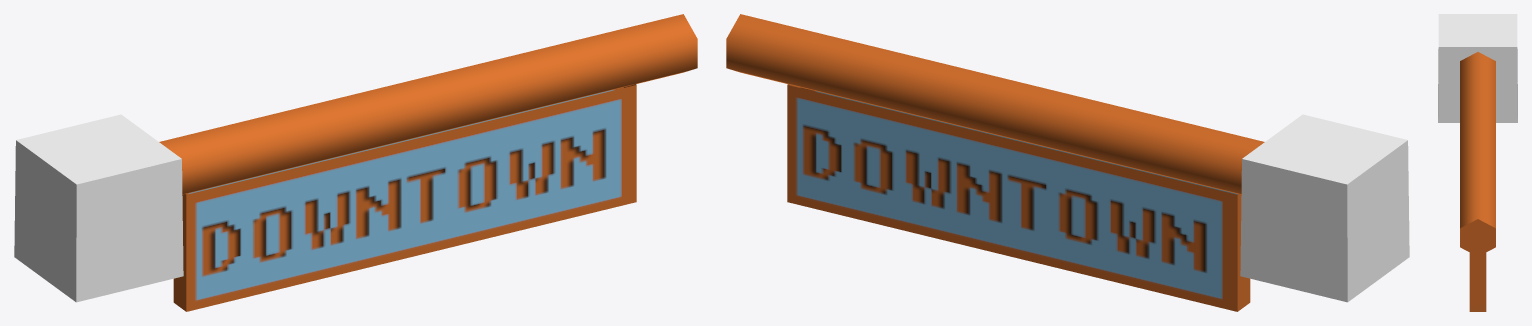
The model's file is Part_Name_Downtown.FBX.
The picture shows the model from 3 angles, left to right: view 1: azimuth 30°, elevation 25°; view 2: azimuth 150°, elevation 25°; view 3: azimuth 270°, elevation 25°; orthographic projection. The views are drawn at different scales.
Visible parts, largest first — view 1: Part_Name_Downtown; view 2: Part_Name_Downtown; view 3: Part_Name_Downtown.
Boxes of the visible parts, <box> form: Part_Name_Downtown: <box>14,14,697,311</box>; Part_Name_Downtown: <box>726,14,1409,311</box>; Part_Name_Downtown: <box>1438,14,1517,311</box>.
Bounding box in the file's own units: 570 × 151 × 95.71.
